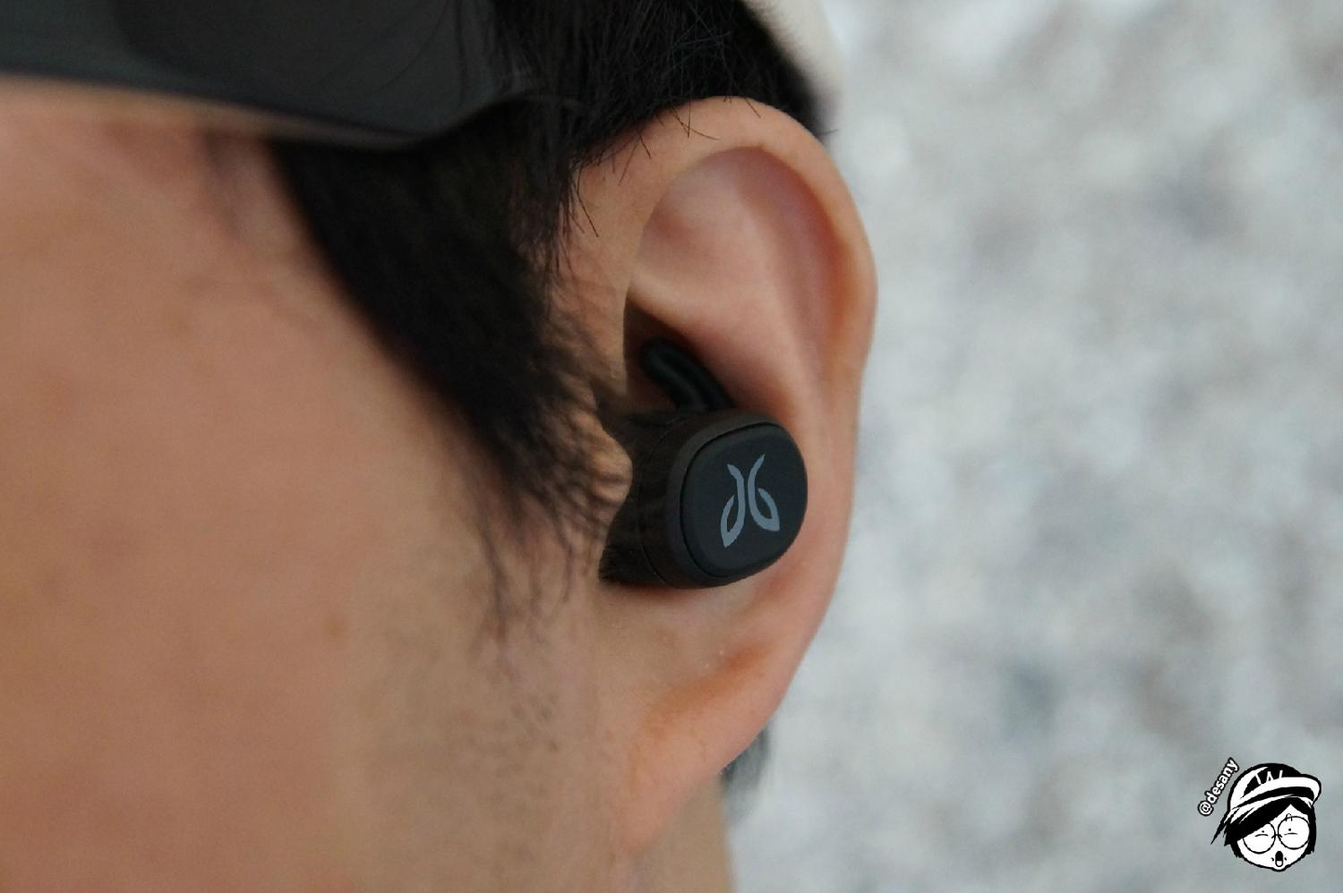earphone: (561, 293, 828, 620)
